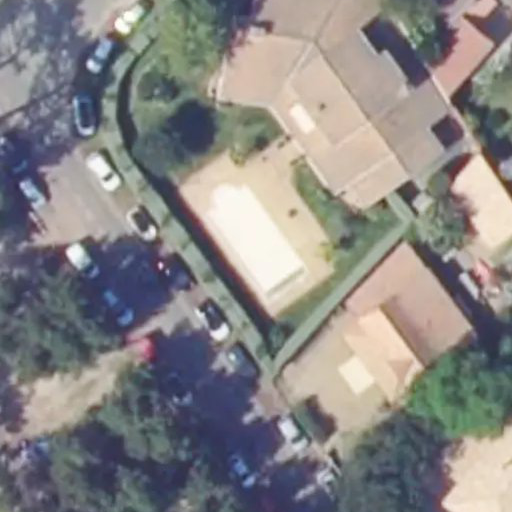pool: (195, 202, 307, 270)
